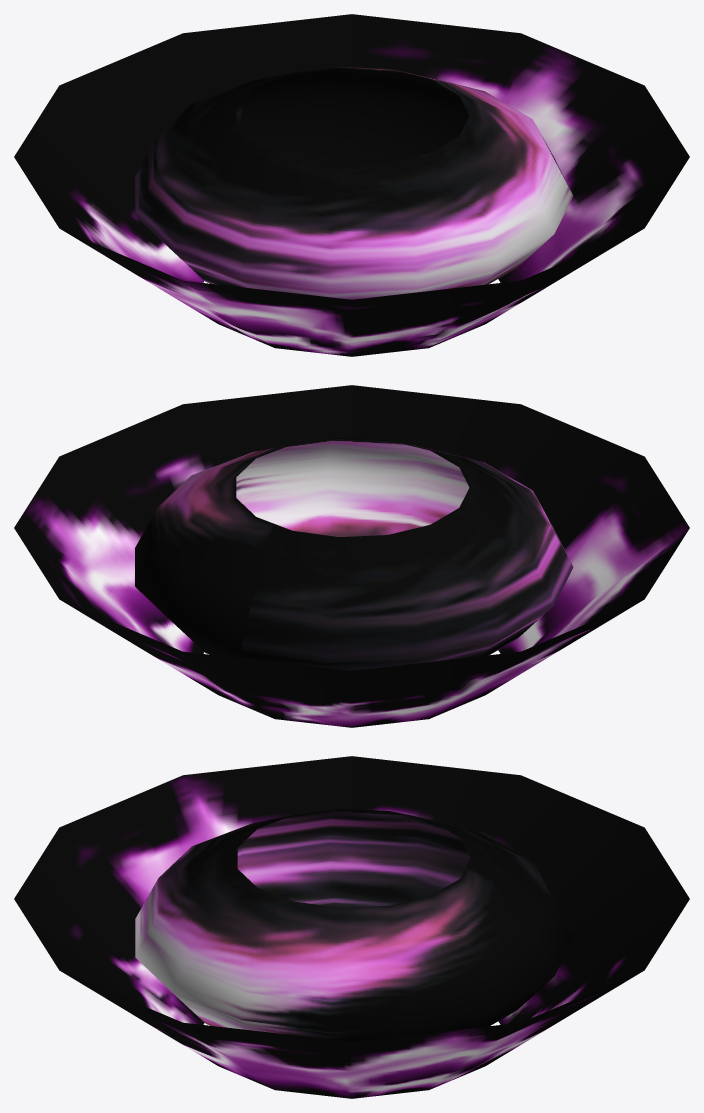
File: fx_fbx_skill_102_fan_powerattack_3_01.FBX
3 views of the same model, one above another, from view 1: azimuth 30°, elevation 25°; view 2: azimuth 150°, elevation 25°; view 3: azimuth 270°, elevation 25° (orthographic).
Parts seen in each view (by area): view 1: Cylinder001; view 2: Cylinder001; view 3: Cylinder001.
Part boxes in pixels (x1,y1,x2,y2): Cylinder001: [14, 14, 689, 356]; Cylinder001: [14, 385, 689, 727]; Cylinder001: [14, 756, 689, 1098].
Bounding box in the file's own units: 379 × 379 × 108.
Materials: 1 (1 with a texture image).
